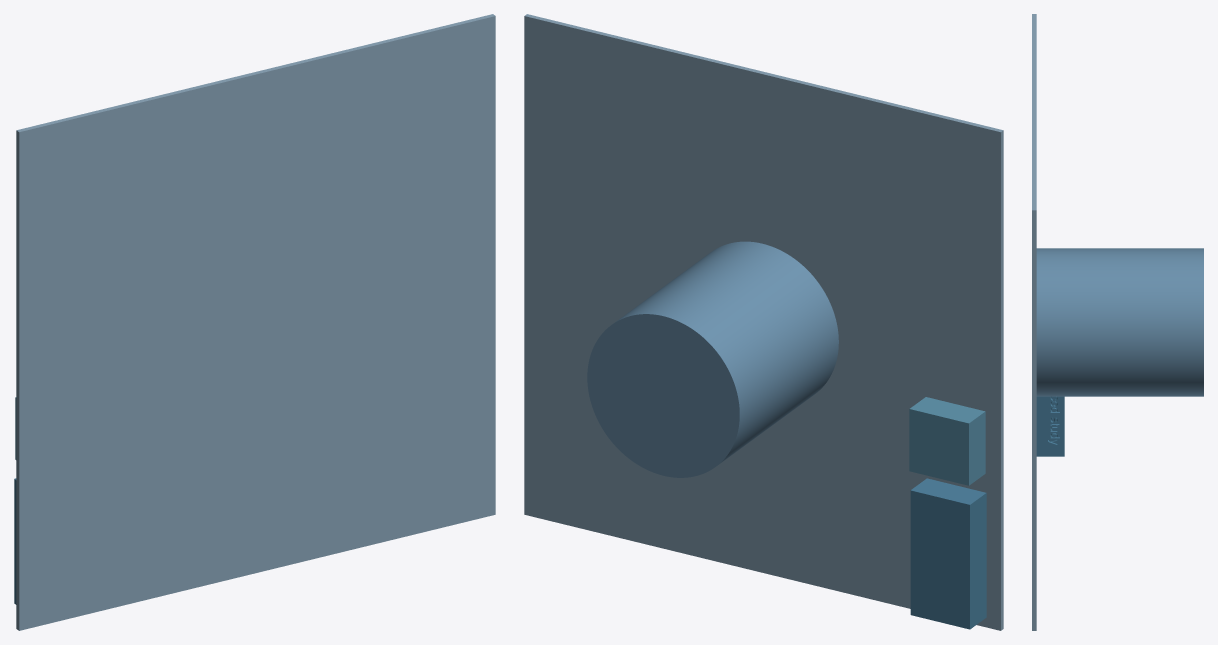
The model's file is spaistaison.glb.
The picture shows the model from 3 angles, left to right: view 1: azimuth 30°, elevation 25°; view 2: azimuth 150°, elevation 25°; view 3: azimuth 270°, elevation 25°; orthographic projection. The views are drawn at different scales.
Visible parts, largest first — view 1: deck; view 2: deck, tower, module-a, module-b; view 3: tower, deck, module-a.
Part boxes in pixels (left/top/right/bottom): deck: left=16, top=14, right=495, bottom=630; deck: left=524, top=14, right=1003, bottom=630; tower: left=587, top=241, right=838, bottom=477; module-a: left=910, top=478, right=986, bottom=629; module-b: left=909, top=397, right=985, bottom=485; tower: left=1036, top=248, right=1203, bottom=396; deck: left=1032, top=14, right=1036, bottom=630; module-a: left=1036, top=396, right=1064, bottom=456.
Bounding box in the file's own units: 100 × 100 × 37.
